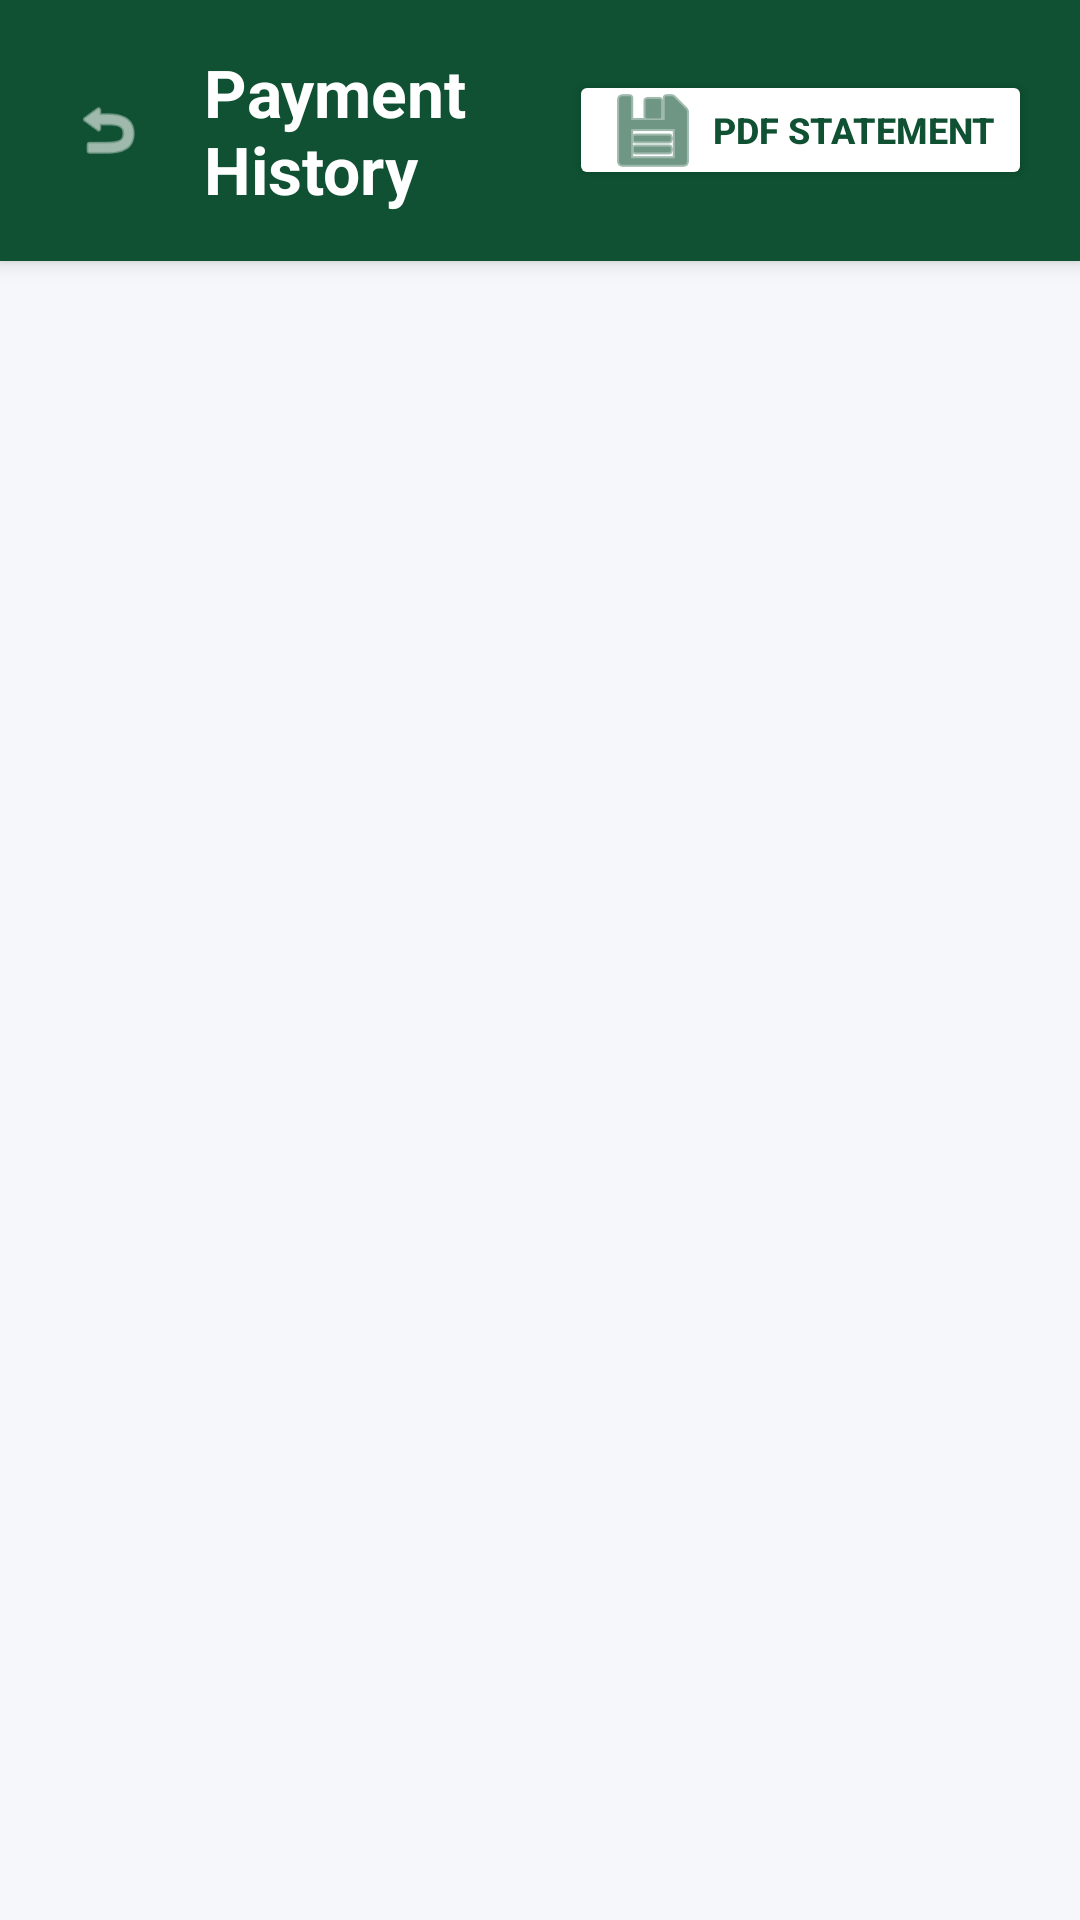

Screen size 1080×1920. Icon name, then its box in pixels as detection(x1, y1, x2, y2):
revert: detection(83, 107, 135, 154)
